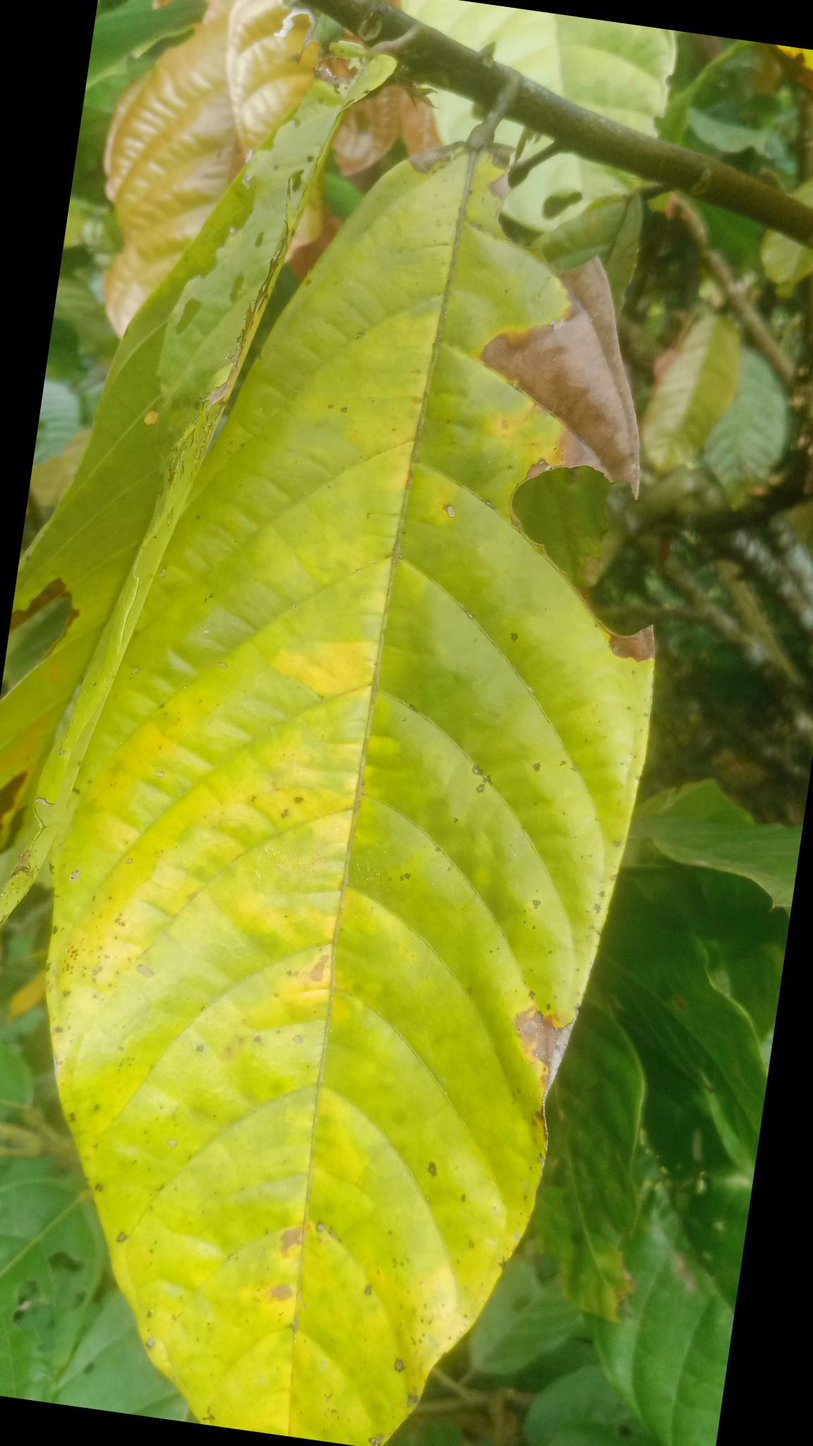Fosforo: (39, 154, 661, 1446)
